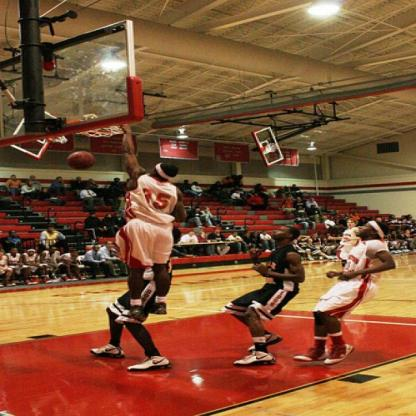basketball: (66, 151, 96, 169)
rim: (68, 118, 130, 136), (263, 142, 280, 153)
